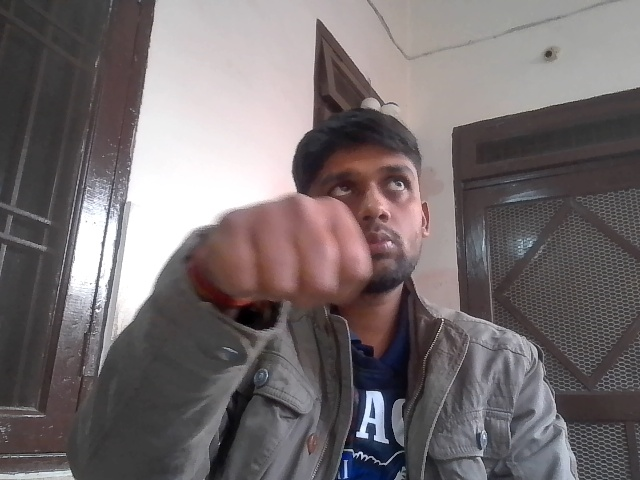Yes: (204, 204, 381, 315)
